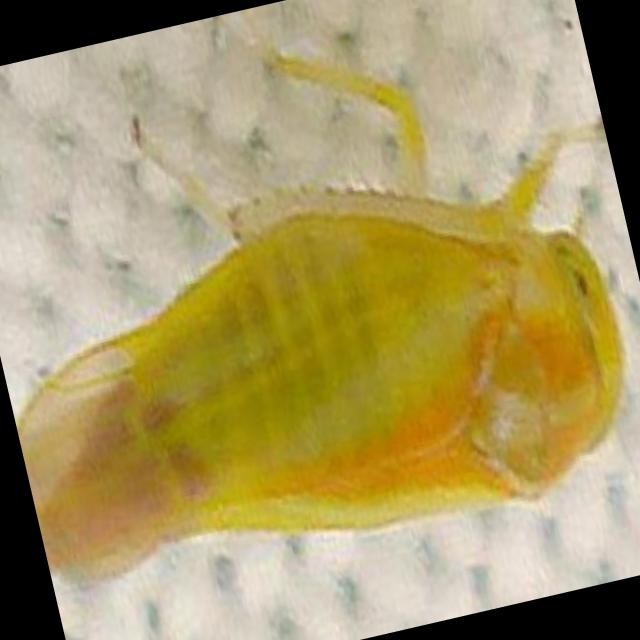green-leafhopper: (0, 160, 640, 610)
